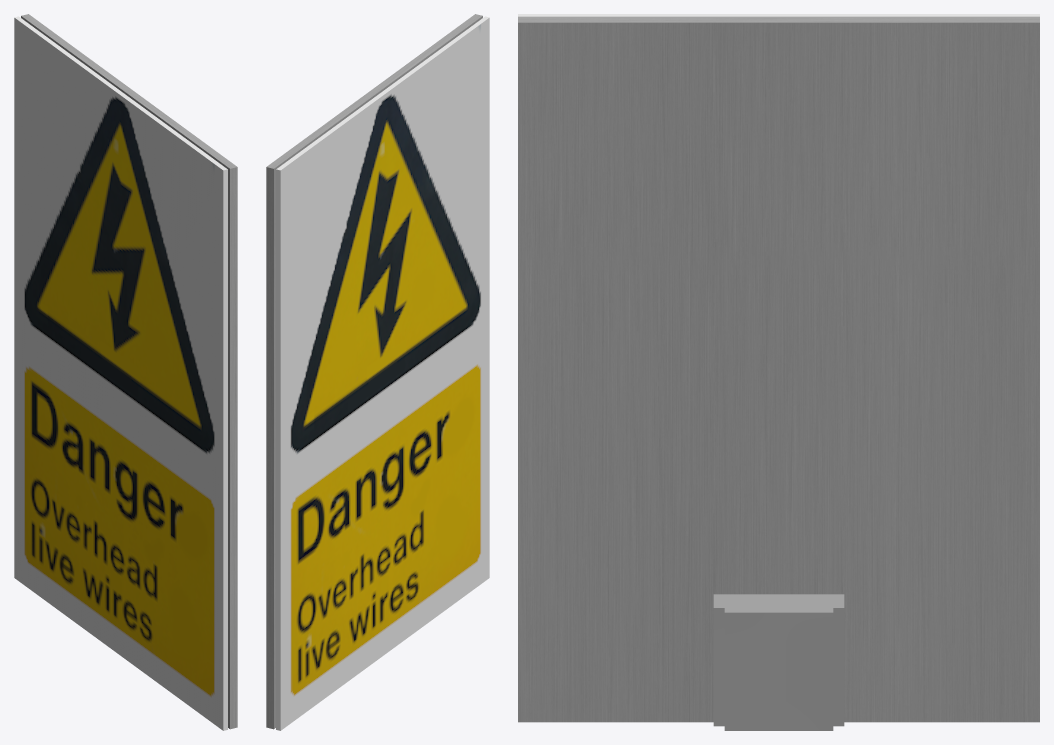
The model's file is danger_overhead_wires_large.obj.
3 views of the same model, side by side, from view 1: azimuth 30°, elevation 25°; view 2: azimuth 150°, elevation 25°; view 3: azimuth 270°, elevation 25° (orthographic). The views are drawn at different scales.
Parts seen in each view (by area): view 1: cube; view 2: cube; view 3: cube.
Part boxes in pixels (x1,y1,x2,y2): cube: (14, 14, 237, 730); cube: (266, 14, 489, 730); cube: (518, 14, 1039, 730).
Size of the model in its own units: 0.0922 by 1.11 by 0.75.
Materials: 2 (2 with a texture image).
